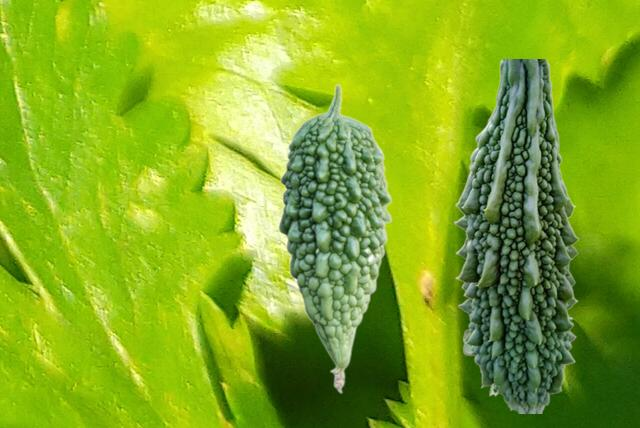ampalaya: (453, 59, 578, 412), (277, 83, 391, 393)
